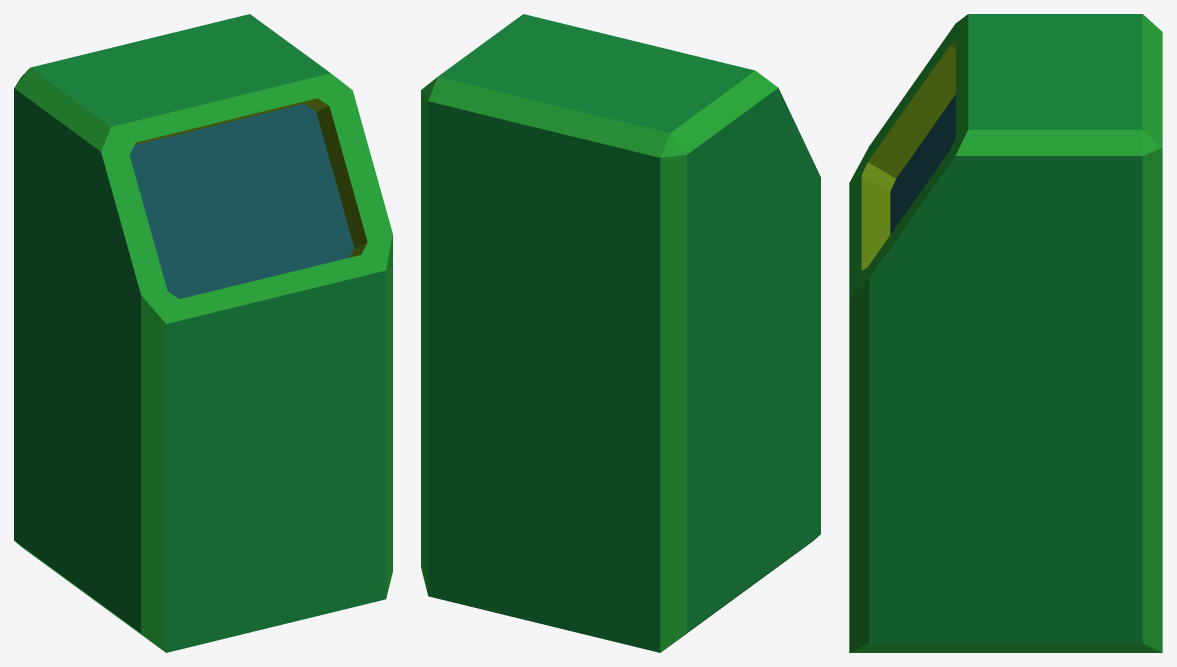
The model's file is trashcan break.fbx.
3 renders of one model, left to right at view 1: azimuth 30°, elevation 25°; view 2: azimuth 150°, elevation 25°; view 3: azimuth 270°, elevation 25°, orthographic. The views are drawn at different scales.
Parts seen in each view (by area): view 1: polySurface112, polySurface111, polySurface113; view 2: polySurface112, polySurface111, polySurface113; view 3: polySurface113, polySurface111, polySurface112.
Part boxes in pixels (x1,y1,x2,y2): polySurface112: (14, 42, 279, 460); polySurface111: (14, 372, 392, 652); polySurface113: (133, 14, 392, 448); polySurface112: (539, 44, 820, 459); polySurface111: (421, 347, 820, 652); polySurface113: (421, 14, 646, 447); polySurface113: (849, 68, 1162, 499); polySurface111: (849, 479, 1162, 652); polySurface112: (849, 14, 1162, 239).
Bounding box in the file's own units: 47.6 × 87.75 × 47.6.
1 material, 1 textured.
